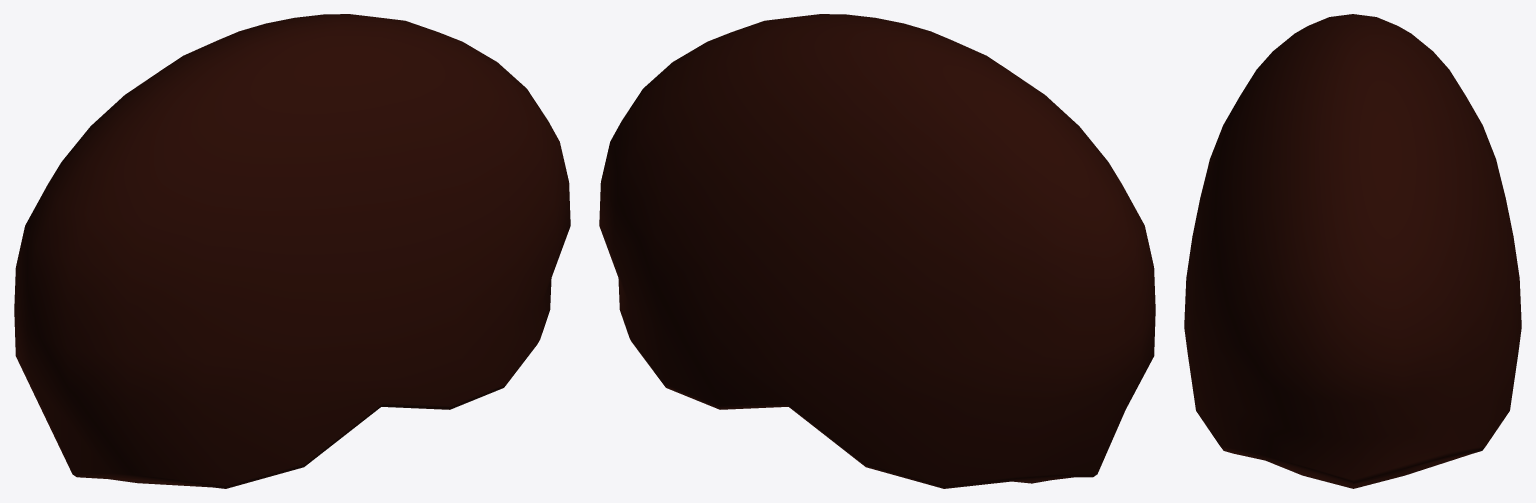
Rendered from stalkseedbrown.fbx.
3 renders of one model, left to right at view 1: azimuth 30°, elevation 25°; view 2: azimuth 150°, elevation 25°; view 3: azimuth 270°, elevation 25°, orthographic. The views are drawn at different scales.
Parts seen in each view (by area): view 1: pSphere1; view 2: pSphere1; view 3: pSphere1.
Boxes of the visible parts, x1,y1,x2,y2 form: pSphere1: (14, 14, 570, 488); pSphere1: (599, 14, 1155, 488); pSphere1: (1184, 14, 1521, 488).
Bounding box in the file's own units: 0.9483 × 0.7037 × 0.5388.
